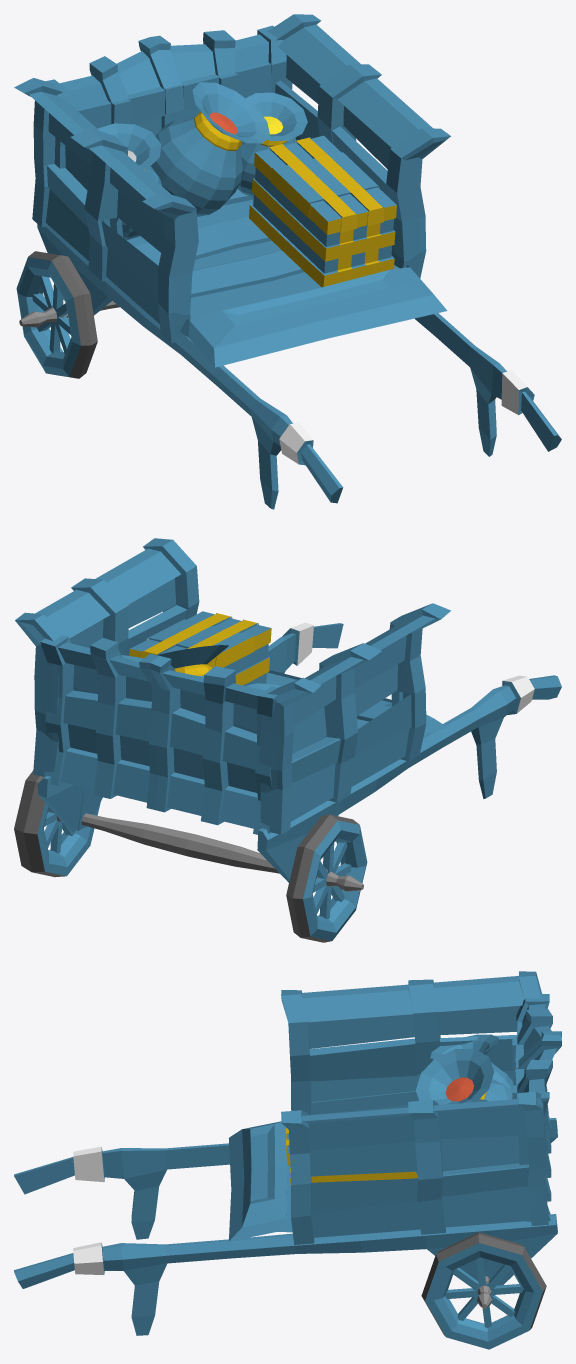
Rendered from Building_LV1_Cargo_Blue.fbx.
3 views of the same model, one above another, from view 1: azimuth 30°, elevation 25°; view 2: azimuth 150°, elevation 25°; view 3: azimuth 270°, elevation 25° (orthographic). The views are drawn at different scales.
Visible parts, largest first — view 1: CARGO_Blue; view 2: CARGO_Blue; view 3: CARGO_Blue.
Boxes of the visible parts, x1,y1,x2,y2 form: CARGO_Blue: (14,14,561,509); CARGO_Blue: (14,538,561,942); CARGO_Blue: (14,971,561,1349).
Size of the model in its own units: 352 by 274 by 535.
4 materials, 4 textured.
